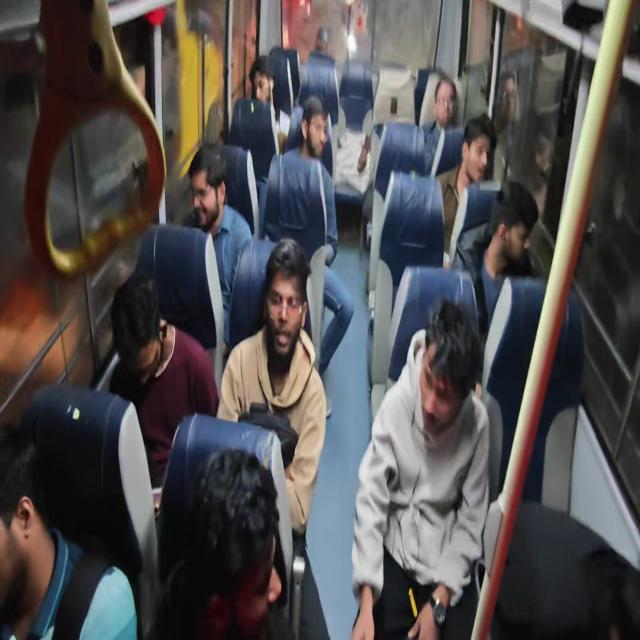person: (180, 448, 289, 640), (220, 207, 320, 411), (0, 438, 59, 640), (96, 260, 166, 416), (492, 193, 566, 332), (410, 318, 461, 424), (424, 70, 477, 154), (326, 103, 372, 199), (290, 95, 334, 167), (182, 152, 217, 240), (471, 108, 498, 191), (250, 58, 282, 114)
